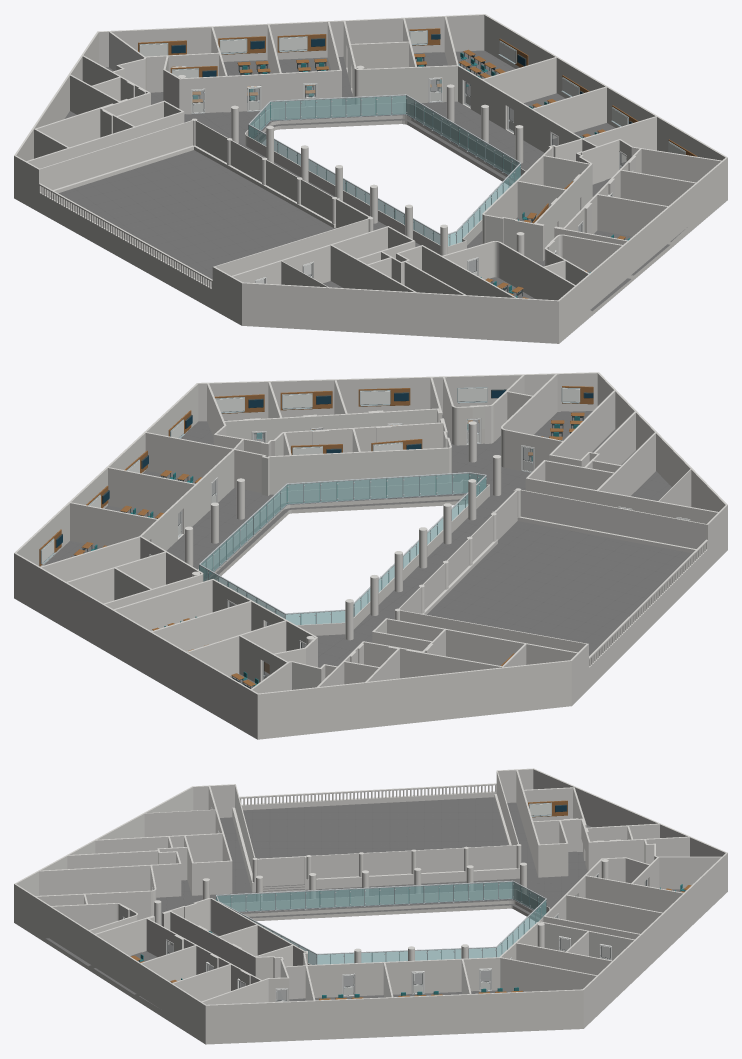
File: NVHSV_Tang6_V3.glb
The picture shows the model from 3 angles, top to bottom: view 1: azimuth 30°, elevation 25°; view 2: azimuth 150°, elevation 25°; view 3: azimuth 270°, elevation 25°; orthographic projection. The views are drawn at different scales.
Parts seen in each view (by area): view 1: Original architectural shell, 606 floor finish; view 2: Original architectural shell, 614 floor finish; view 3: Original architectural shell, Atrium V2 continuous top handrail.005.
Part boxes in pixels (<box>): Original architectural shell: <box>14,14,727,343</box>; 606 floor finish: <box>456,51,513,95</box>; Original architectural shell: <box>14,372,727,739</box>; 614 floor finish: <box>523,411,591,460</box>; Original architectural shell: <box>14,768,727,1044</box>; Atrium V2 continuous top handrail.005: <box>217,880,512,895</box>.
Size of the model in its own units: 78.55 by 6 by 99.92.
Materials: 34 (19 with a texture image).
